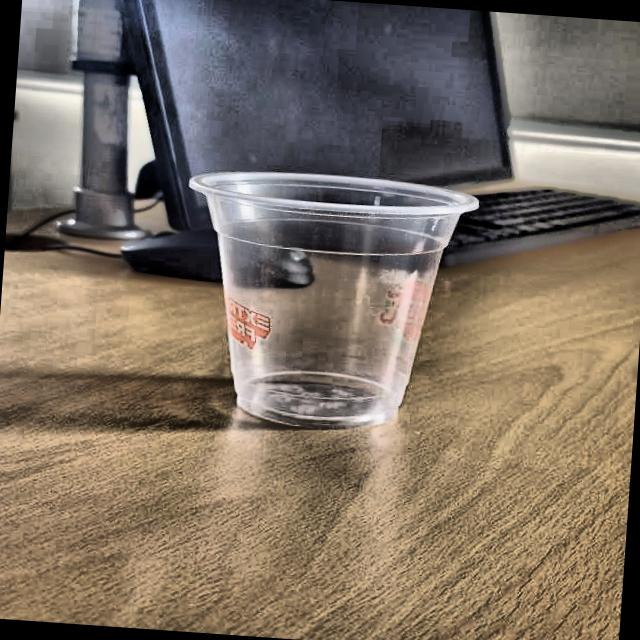plastic cup: (166, 163, 484, 440)
